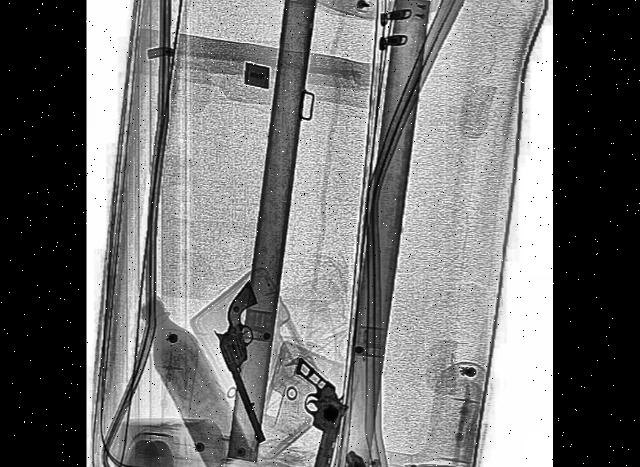Gun: (210, 280, 302, 446), (275, 356, 356, 467), (327, 442, 394, 467)
